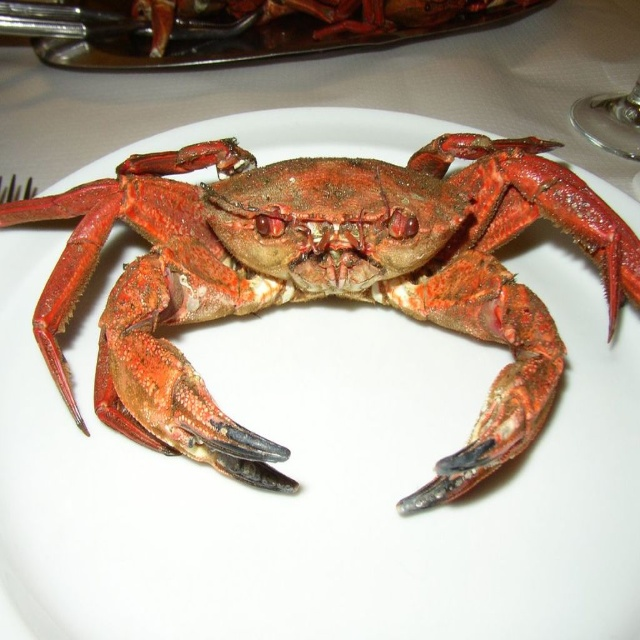Crab: (0, 132, 640, 516)
